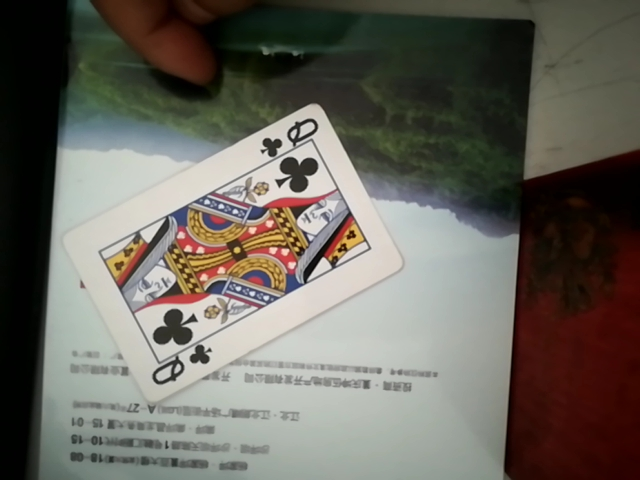mh q: (54, 101, 407, 395)
